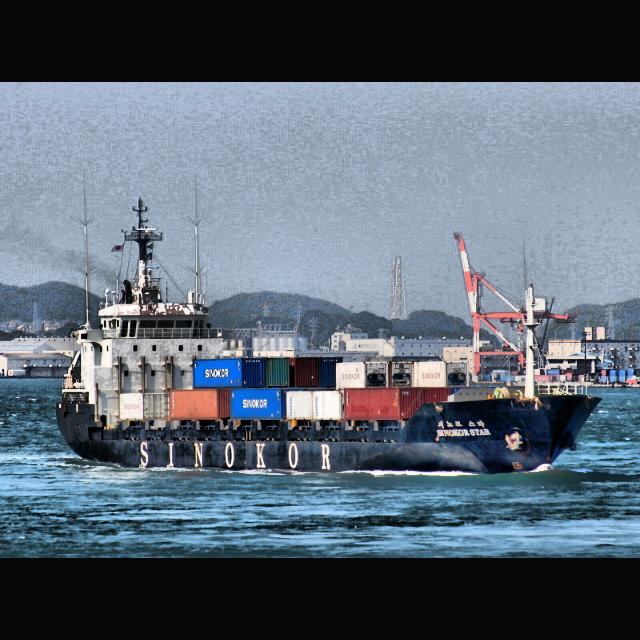container: (54, 195, 604, 475)
